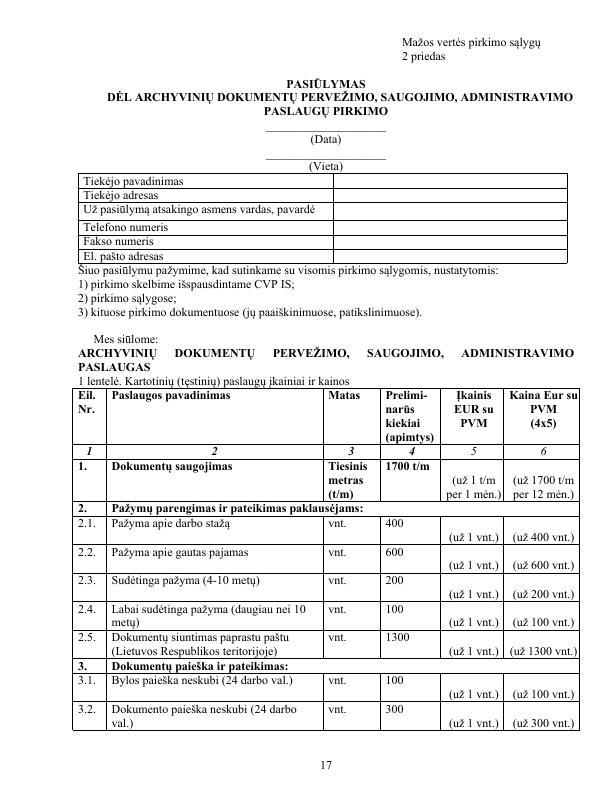input: (264, 121, 388, 172)
table: (69, 387, 582, 733), (75, 171, 571, 264)
text: (75, 333, 579, 387), (76, 265, 503, 323), (101, 77, 574, 118)
